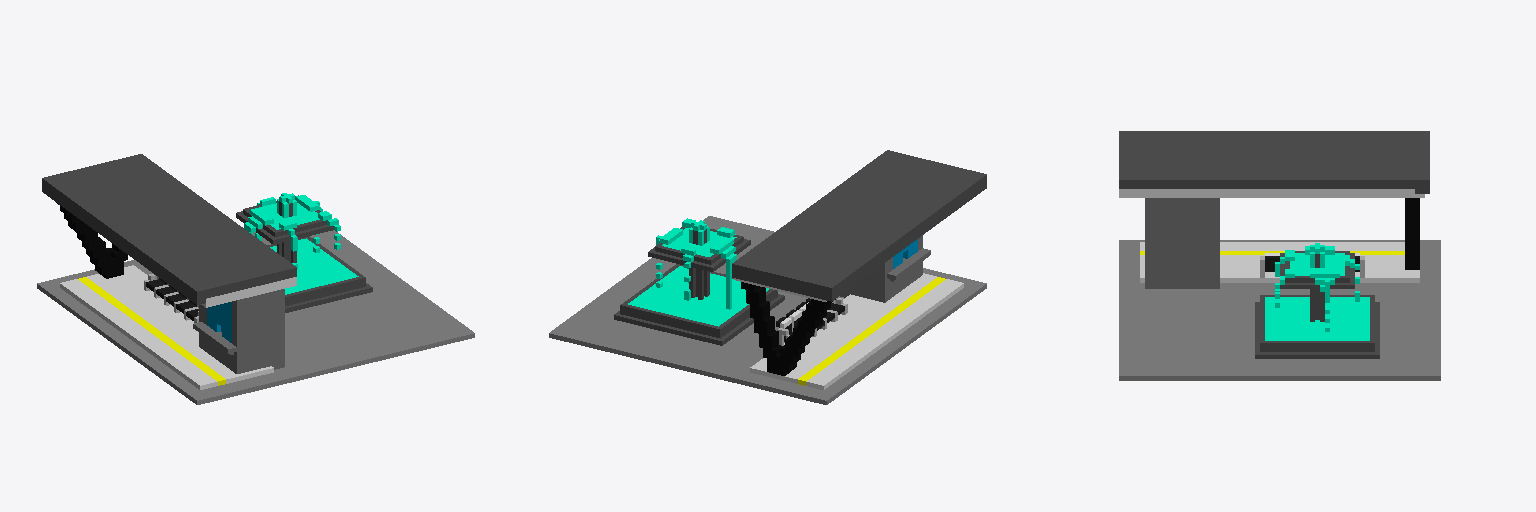
The picture shows the model from 3 angles: view 1: azimuth 30°, elevation 25°; view 2: azimuth 150°, elevation 25°; view 3: azimuth 270°, elevation 25°; orthographic projection.
Parts seen in each view (by area): view 1: object 1; view 2: object 1; view 3: object 1.
Part boxes in pixels (x1,y1,x2,y2): object 1: (37, 154, 474, 404); object 1: (549, 150, 986, 404); object 1: (1119, 131, 1440, 380).
Bounding box in the file's own units: 6.4 × 2.5 × 6.4.
1 materials, 1 textured.